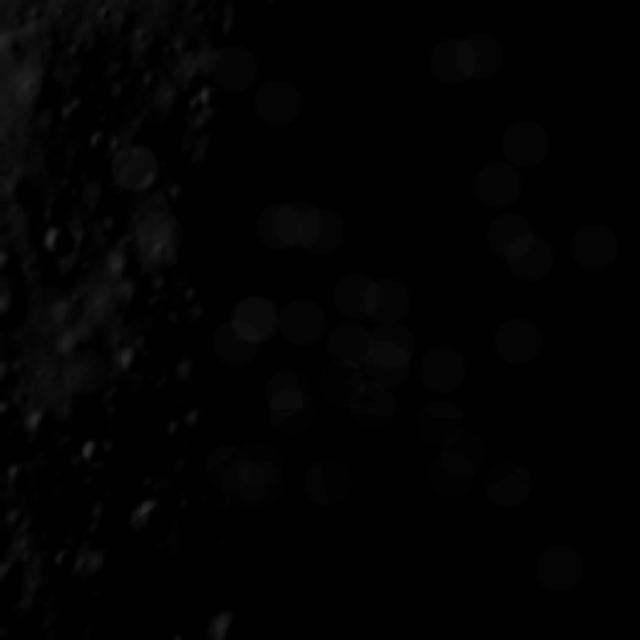crater: (126, 495, 180, 550), (211, 604, 273, 640), (94, 439, 134, 484), (66, 432, 109, 472), (38, 223, 78, 266), (90, 548, 127, 588), (82, 123, 120, 160), (44, 542, 82, 578), (53, 95, 93, 127), (117, 342, 151, 378), (26, 409, 60, 443), (78, 617, 128, 640), (0, 292, 28, 330), (0, 557, 18, 611), (0, 396, 20, 430), (0, 246, 18, 282), (5, 462, 26, 489), (165, 631, 202, 640)
